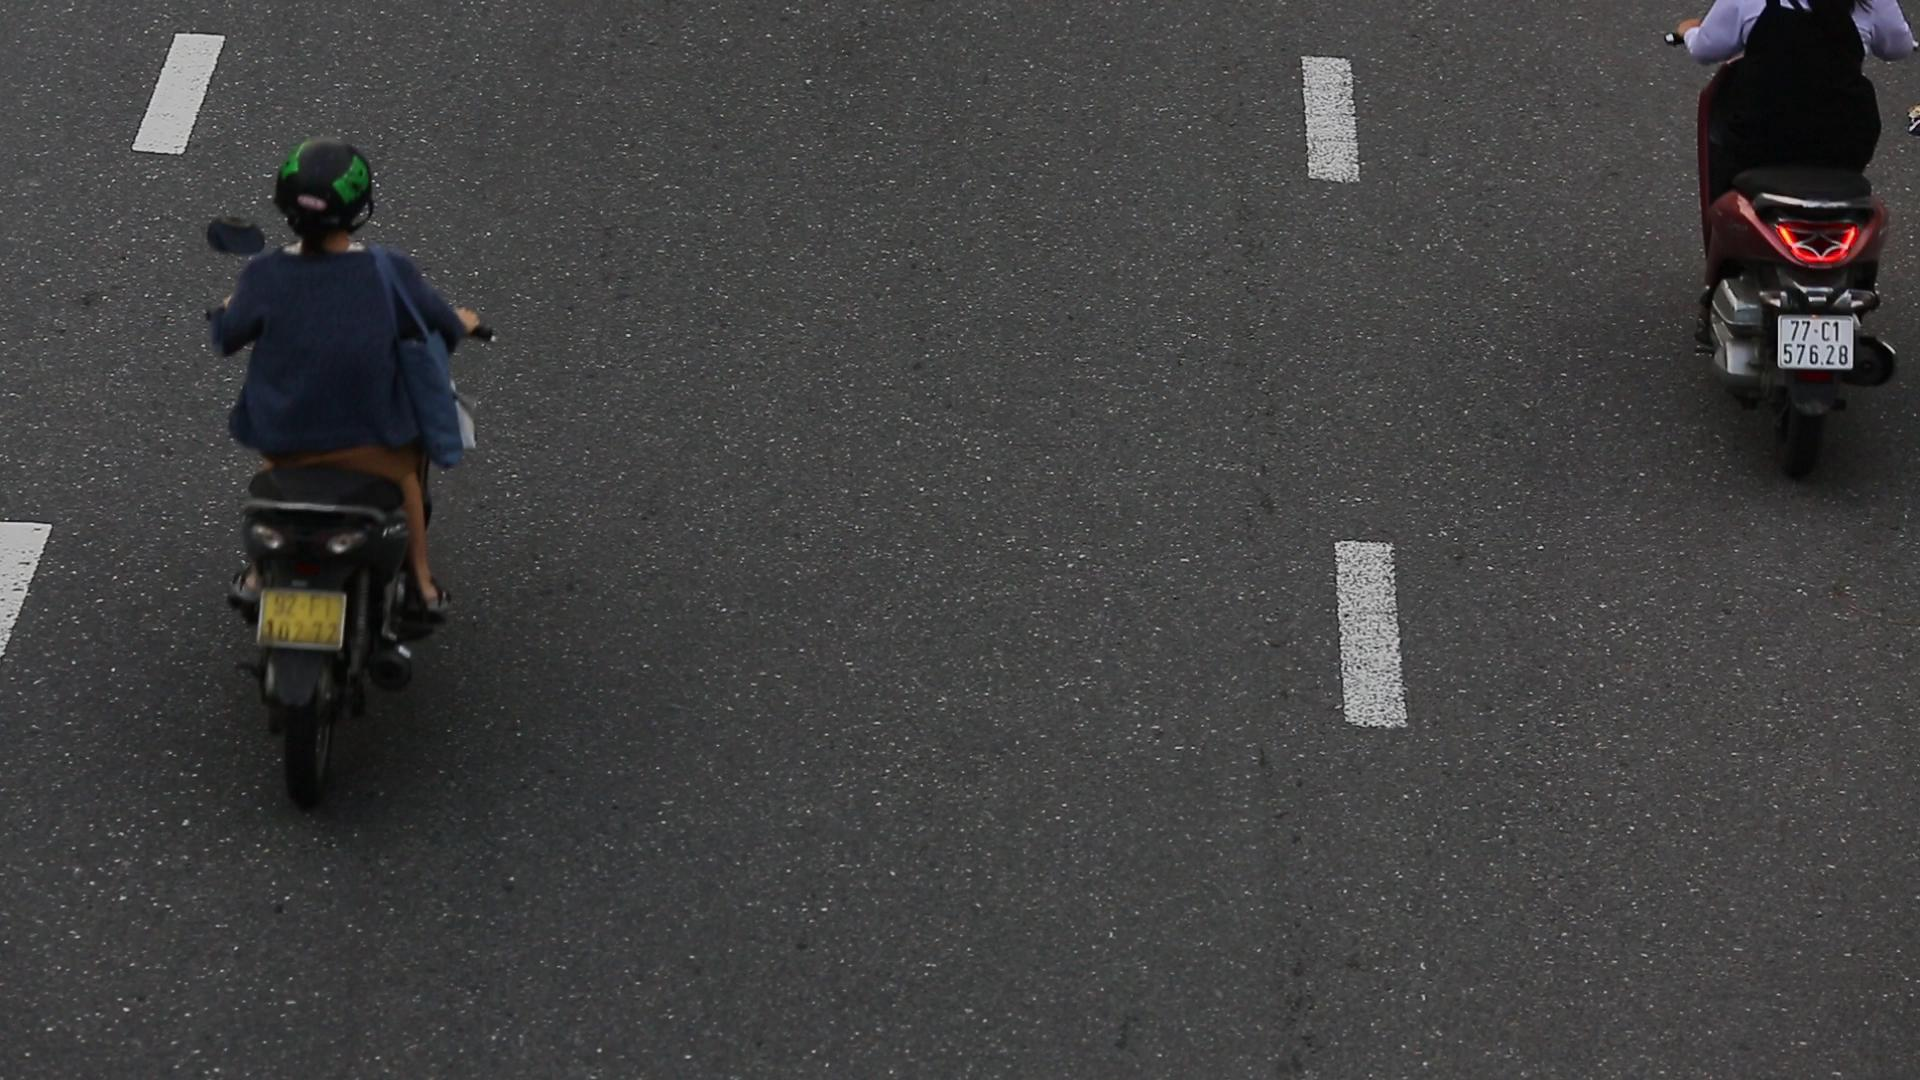motobike: (189, 120, 483, 789)
